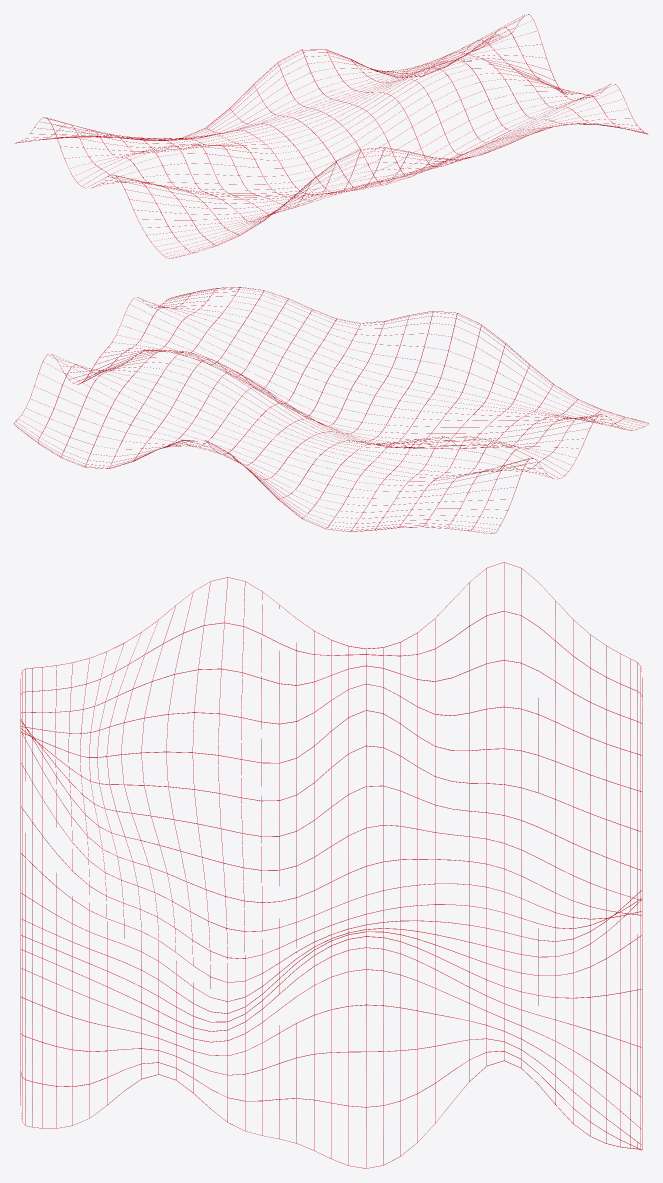
3 renders of one model, top to bottom at view 1: azimuth 30°, elevation 25°; view 2: azimuth 150°, elevation 25°; view 3: azimuth 270°, elevation 25°, orthographic. The views are drawn at different scales.
Parts seen in each view (by area): view 1: Plane; view 2: Plane; view 3: Plane.
Boxes of the visible parts, left/top/right/bottom form: Plane: left=15, top=14, right=648, bottom=258; Plane: left=14, top=287, right=648, bottom=533; Plane: left=20, top=562, right=642, bottom=1168.
Size of the model in its own units: 51.63 by 9.9 by 28.79.
